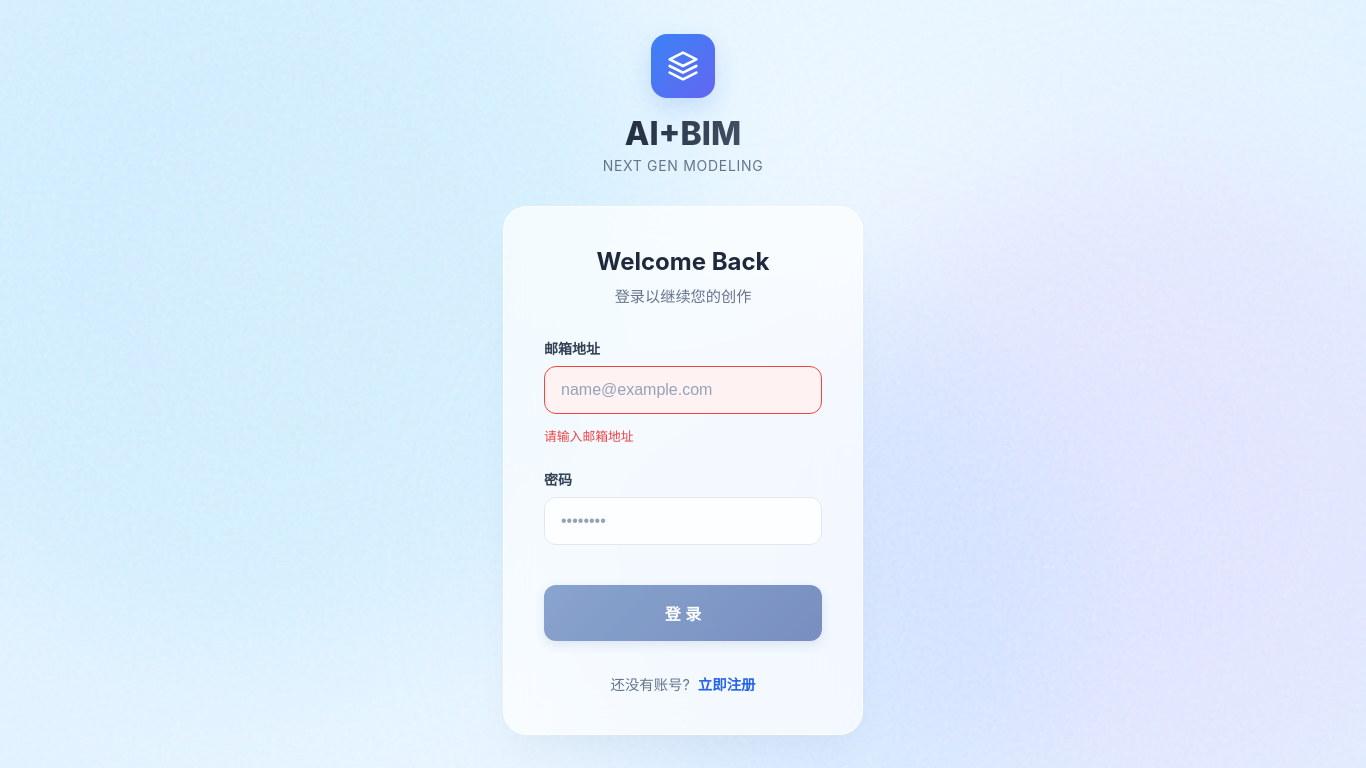
Test case: LoginView › validates password length
This screenshot has width=1366, height=768.
Type "123" into the password field labelled "密码".
click(683, 520); type("123")  # box [545,498,821,544]
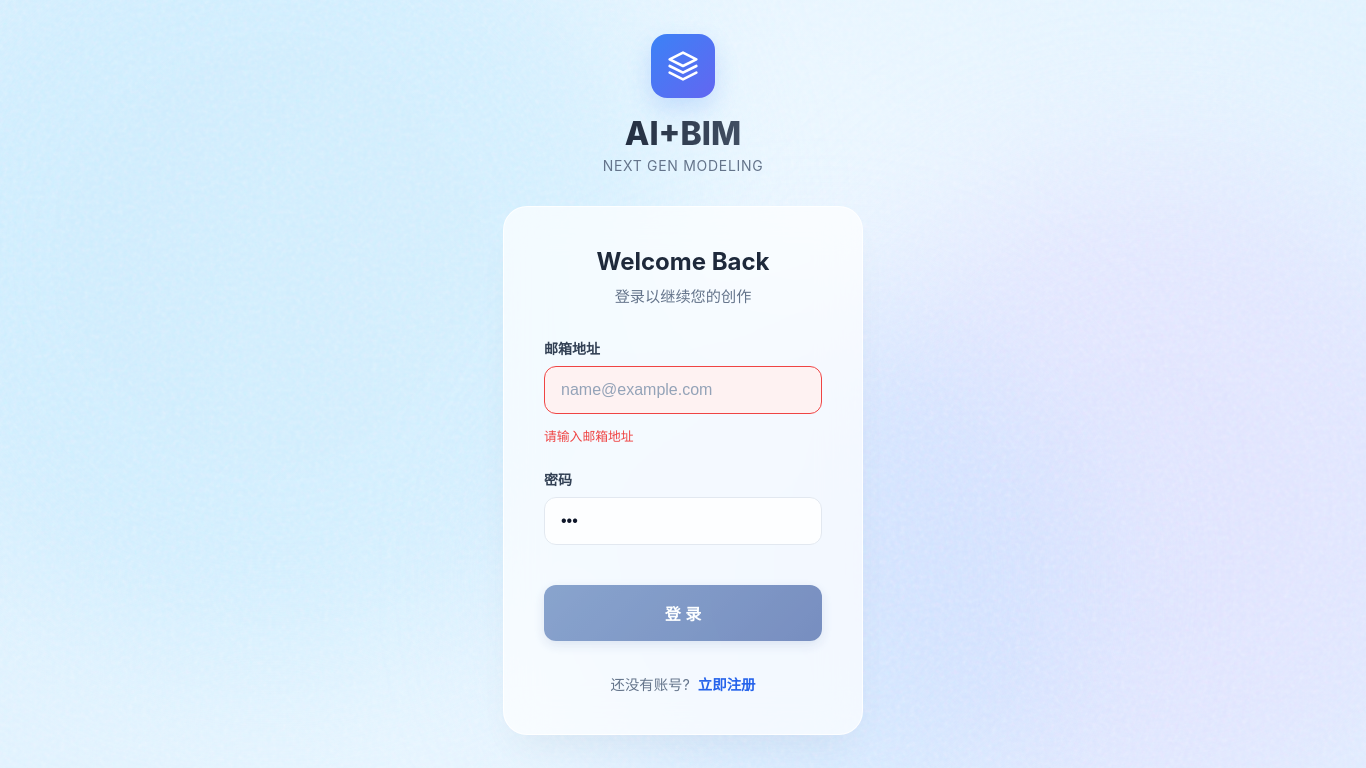
Leave the password field labelled "密码", box [545,498,821,544]
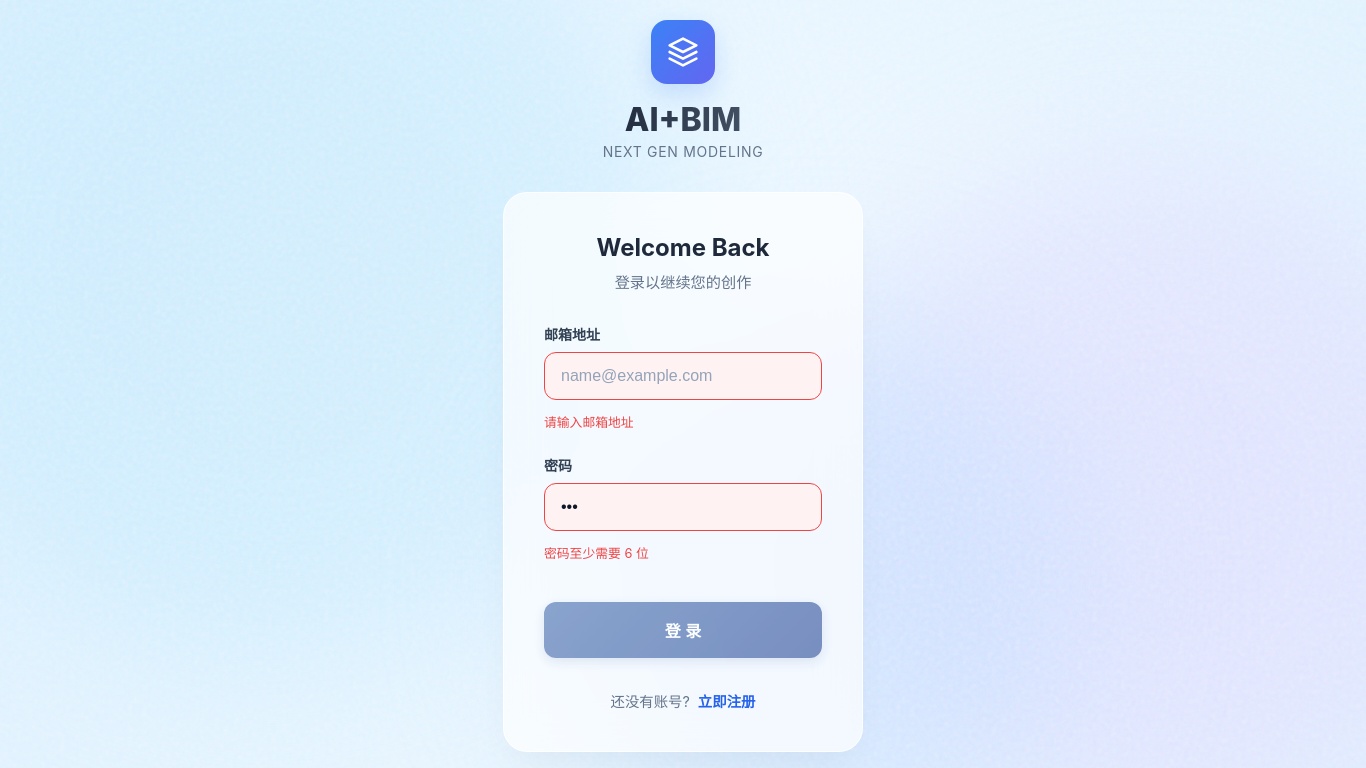
Result: the text "密码至少需要 6 位" is shown at [544,546,649,561]
